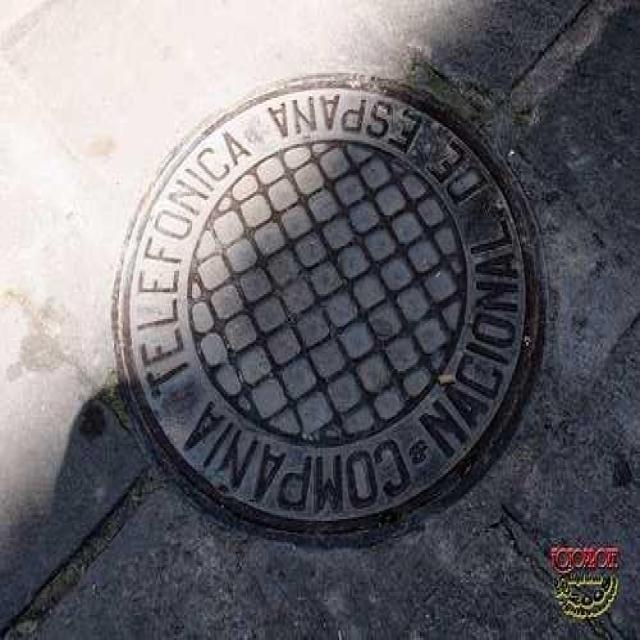manhole: (110, 75, 547, 548)
